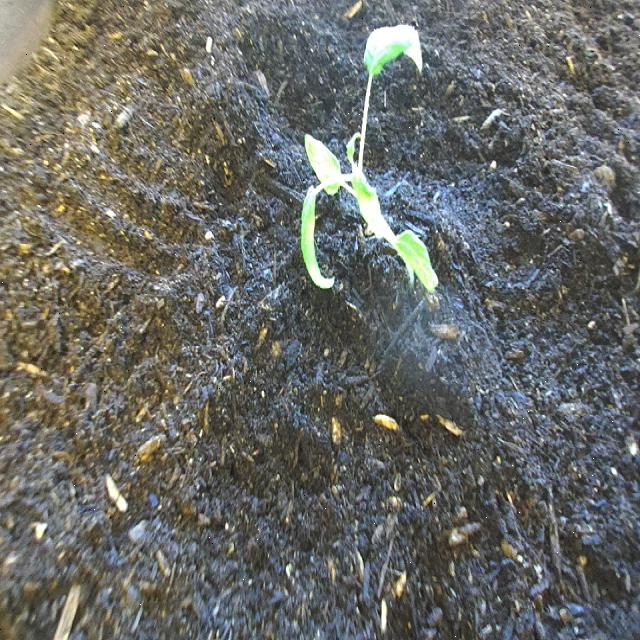Healthy: (295, 17, 442, 311)
